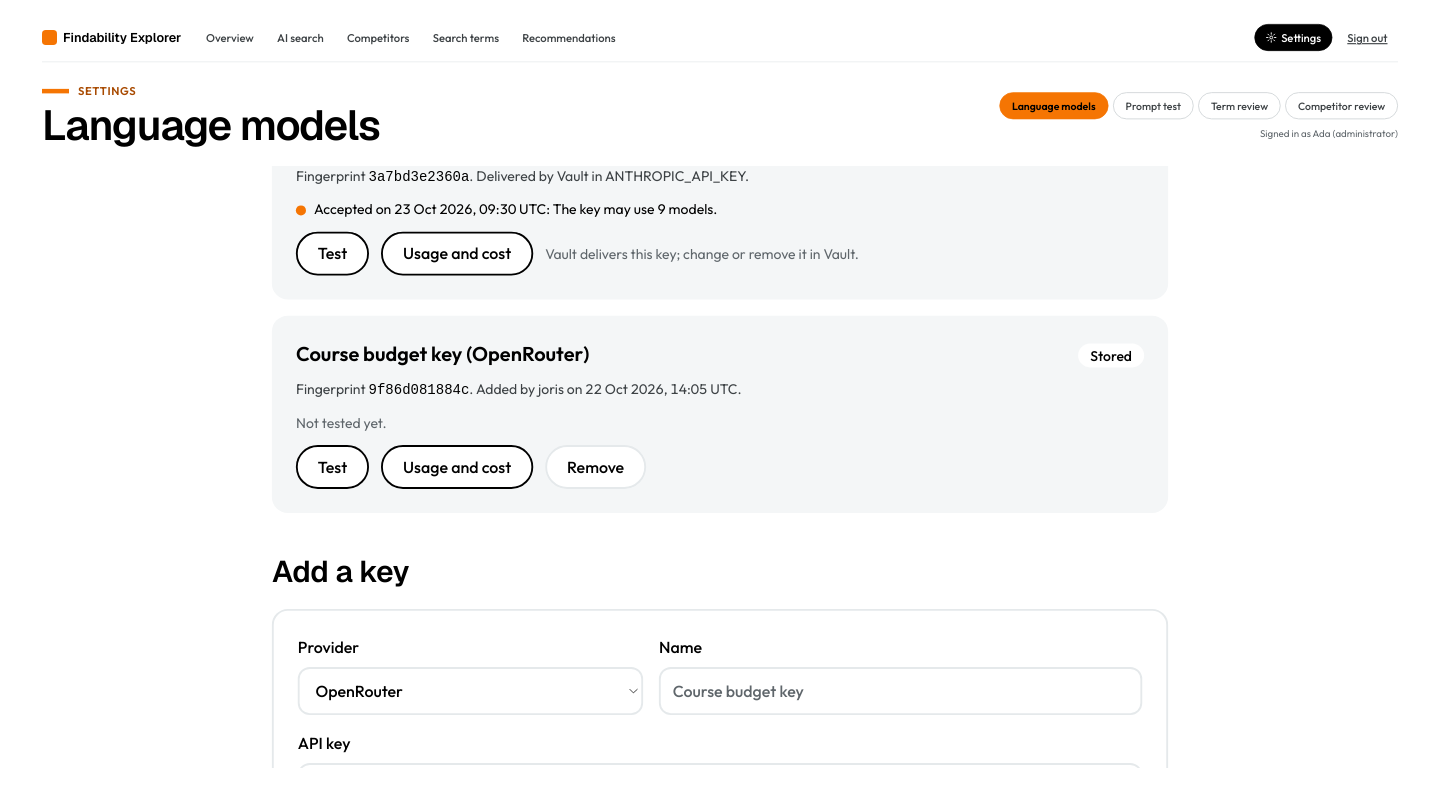
Test: testing and removing a key › shows a refusal, and a test that could not run
This screenshot has width=1440, height=810.
(page scrolled)
Step 1. Click the button "Test" below "Course budget key (OpenRouter)" → (333, 467), box [296,445,369,489]
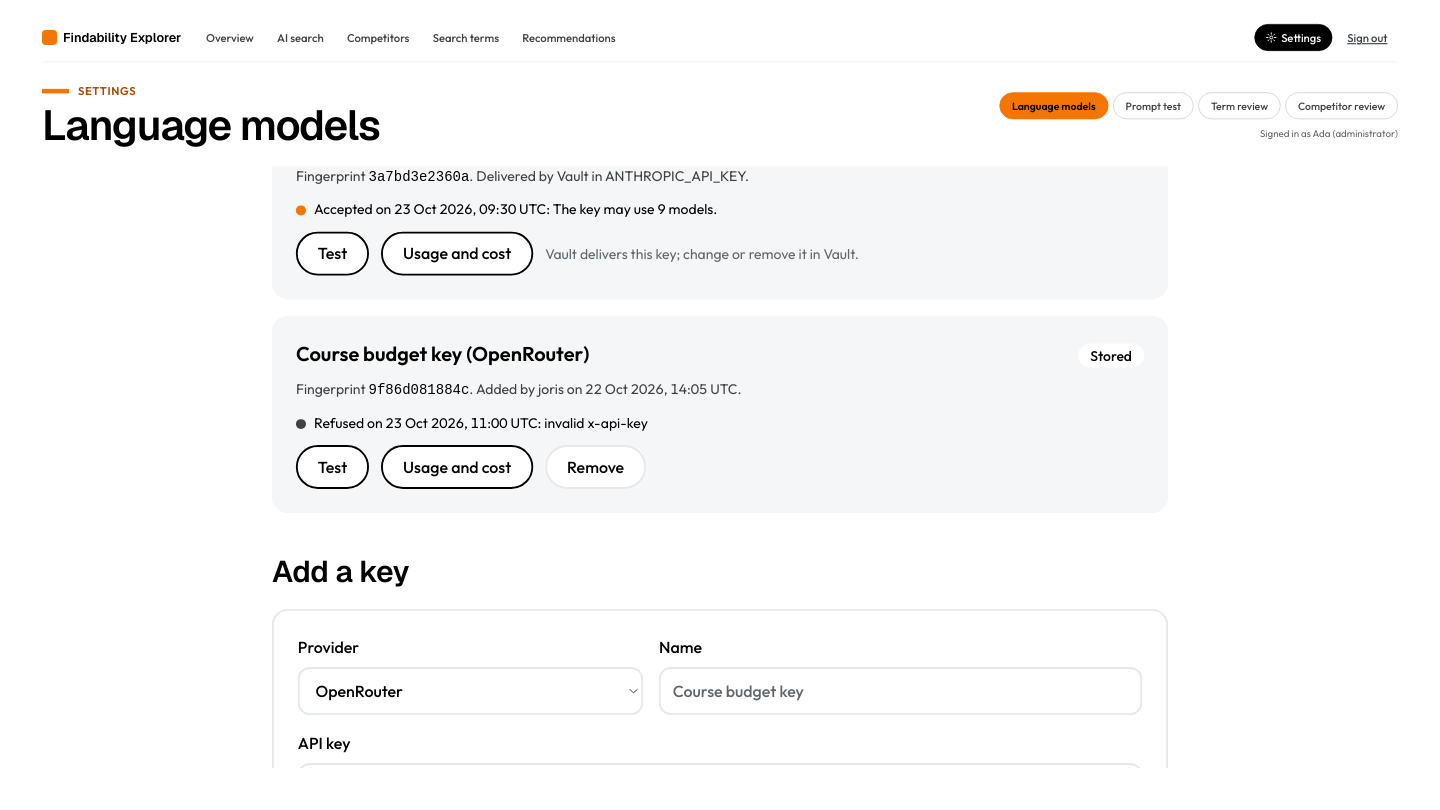
Result: the list item that starts with "Course budget key (OpenRouter)" shows "Refused on 23 Oct 2026, 11:00 UTC: invalid x-api-key" at [314,414,648,432]
Step 2. Click the button "Test" below "Course budget key (OpenRouter)" → (333, 467), box [296,445,369,489]
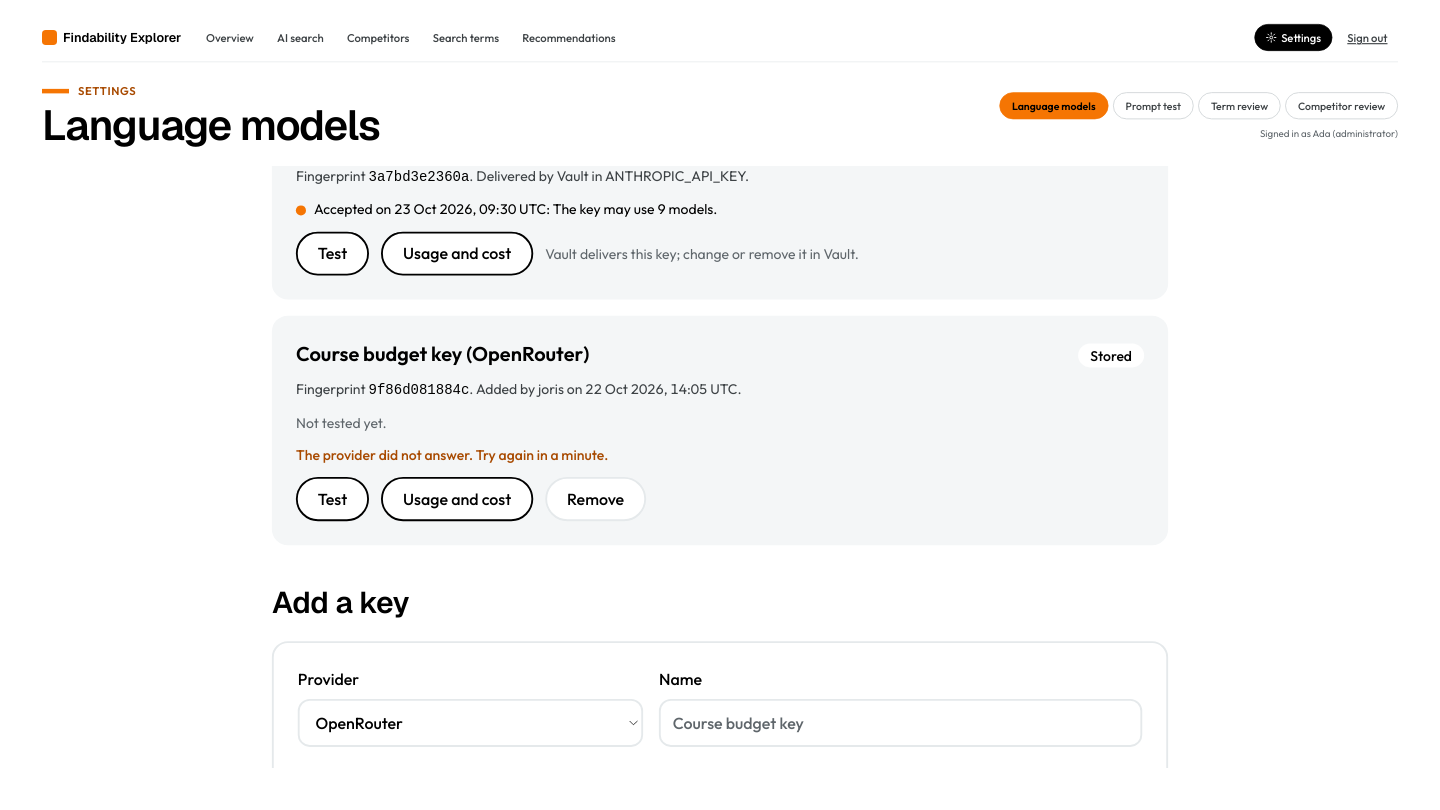
Result: the message "The provider did not answer. Try again in a minute." is shown at [296,446,608,464]
